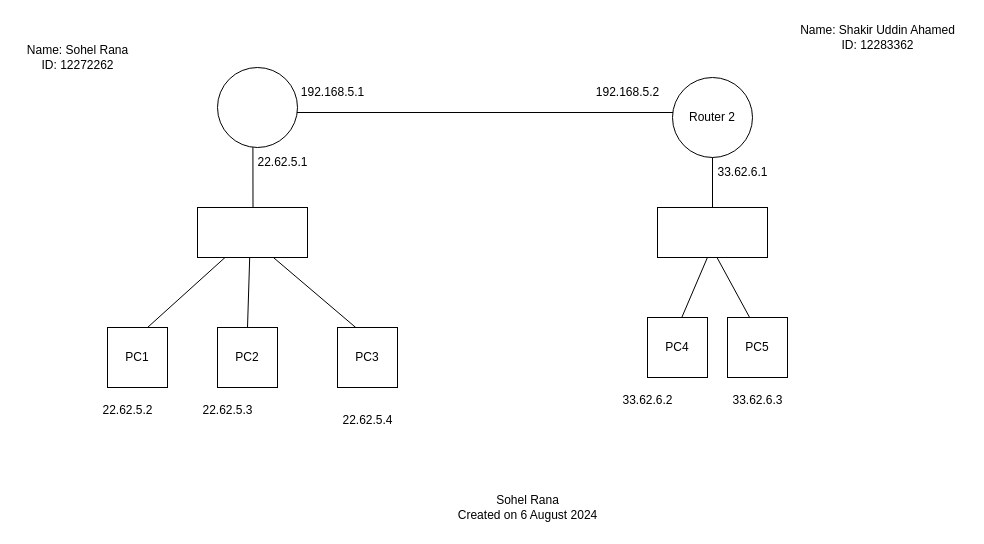
This 984x544 diagram has some shape labels left out. Each missing label, with the box of its shape:
Router 1: (216, 66, 298, 148)
Switch 1: (196, 206, 308, 258)
Switch 2: (656, 206, 768, 258)
